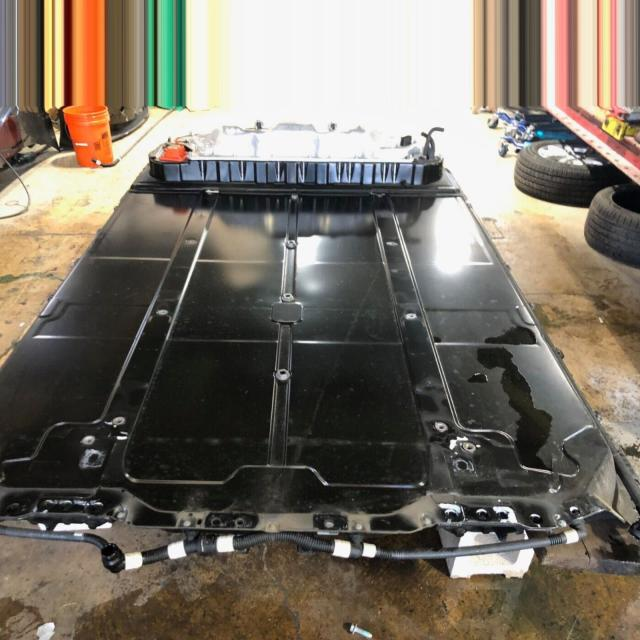Nut: (287, 184, 311, 211), (276, 366, 293, 384), (287, 236, 303, 252), (282, 292, 298, 304)
Screw: (155, 304, 176, 323), (81, 434, 101, 452), (386, 237, 403, 256), (185, 234, 202, 253), (462, 441, 480, 457), (112, 416, 130, 432), (437, 420, 451, 438)
